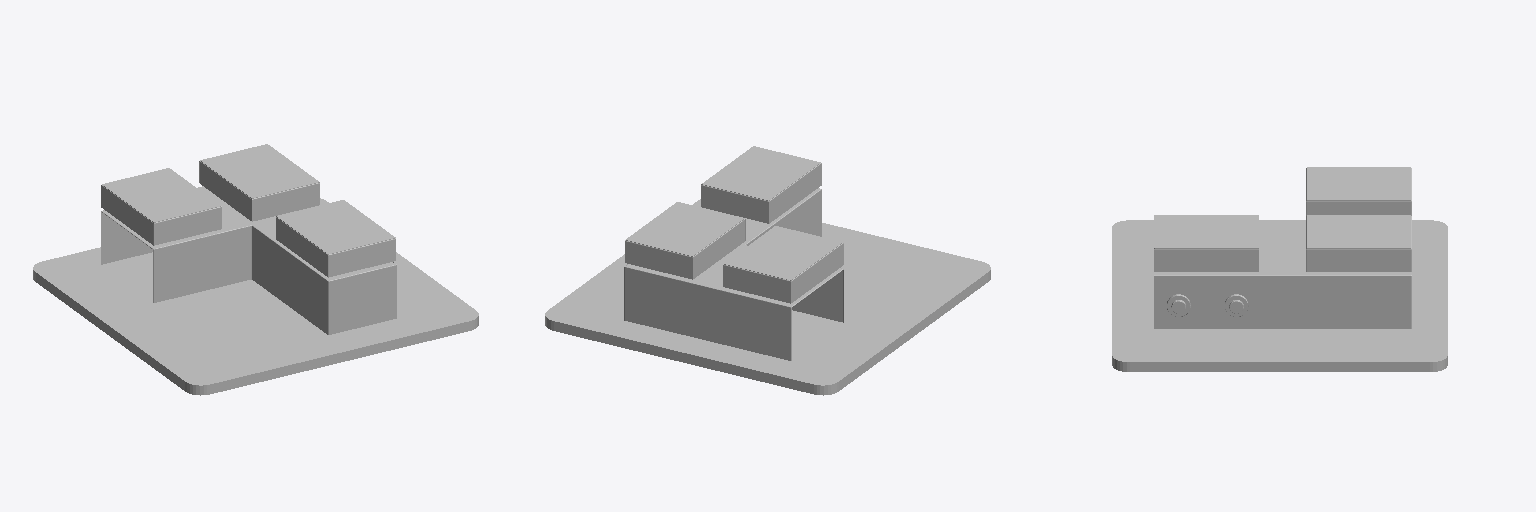
Rendered from right.obj.
The picture shows the model from 3 angles: view 1: azimuth 30°, elevation 25°; view 2: azimuth 150°, elevation 25°; view 3: azimuth 270°, elevation 25°; orthographic projection.
Parts seen in each view (by area): view 1: 右下主体物底座, 右下主体, 盒子2, 盒子1, 盒子3; view 2: 右下主体物底座, 右下主体, 盒子3, 盒子1, 盒子2; view 3: 右下主体物底座, 右下主体, 盒子2, 盒子3, 盒子1.
Boxes of the visible parts, x1,y1,x2,y2 form: 右下主体物底座: [33, 198, 478, 395]; 右下主体: [101, 186, 396, 334]; 盒子2: [199, 144, 319, 221]; 盒子1: [101, 168, 221, 245]; 盒子3: [276, 200, 395, 277]; 右下主体物底座: [545, 199, 990, 395]; 右下主体: [624, 188, 843, 360]; 盒子3: [701, 146, 821, 223]; 盒子1: [723, 226, 843, 303]; 盒子2: [625, 202, 745, 279]; 右下主体物底座: [1112, 220, 1447, 371]; 右下主体: [1154, 242, 1411, 328]; 盒子2: [1306, 215, 1411, 271]; 盒子3: [1154, 215, 1258, 271]; 盒子1: [1306, 167, 1411, 215].
Size of the model in its own units: 132 by 39.13 by 132.